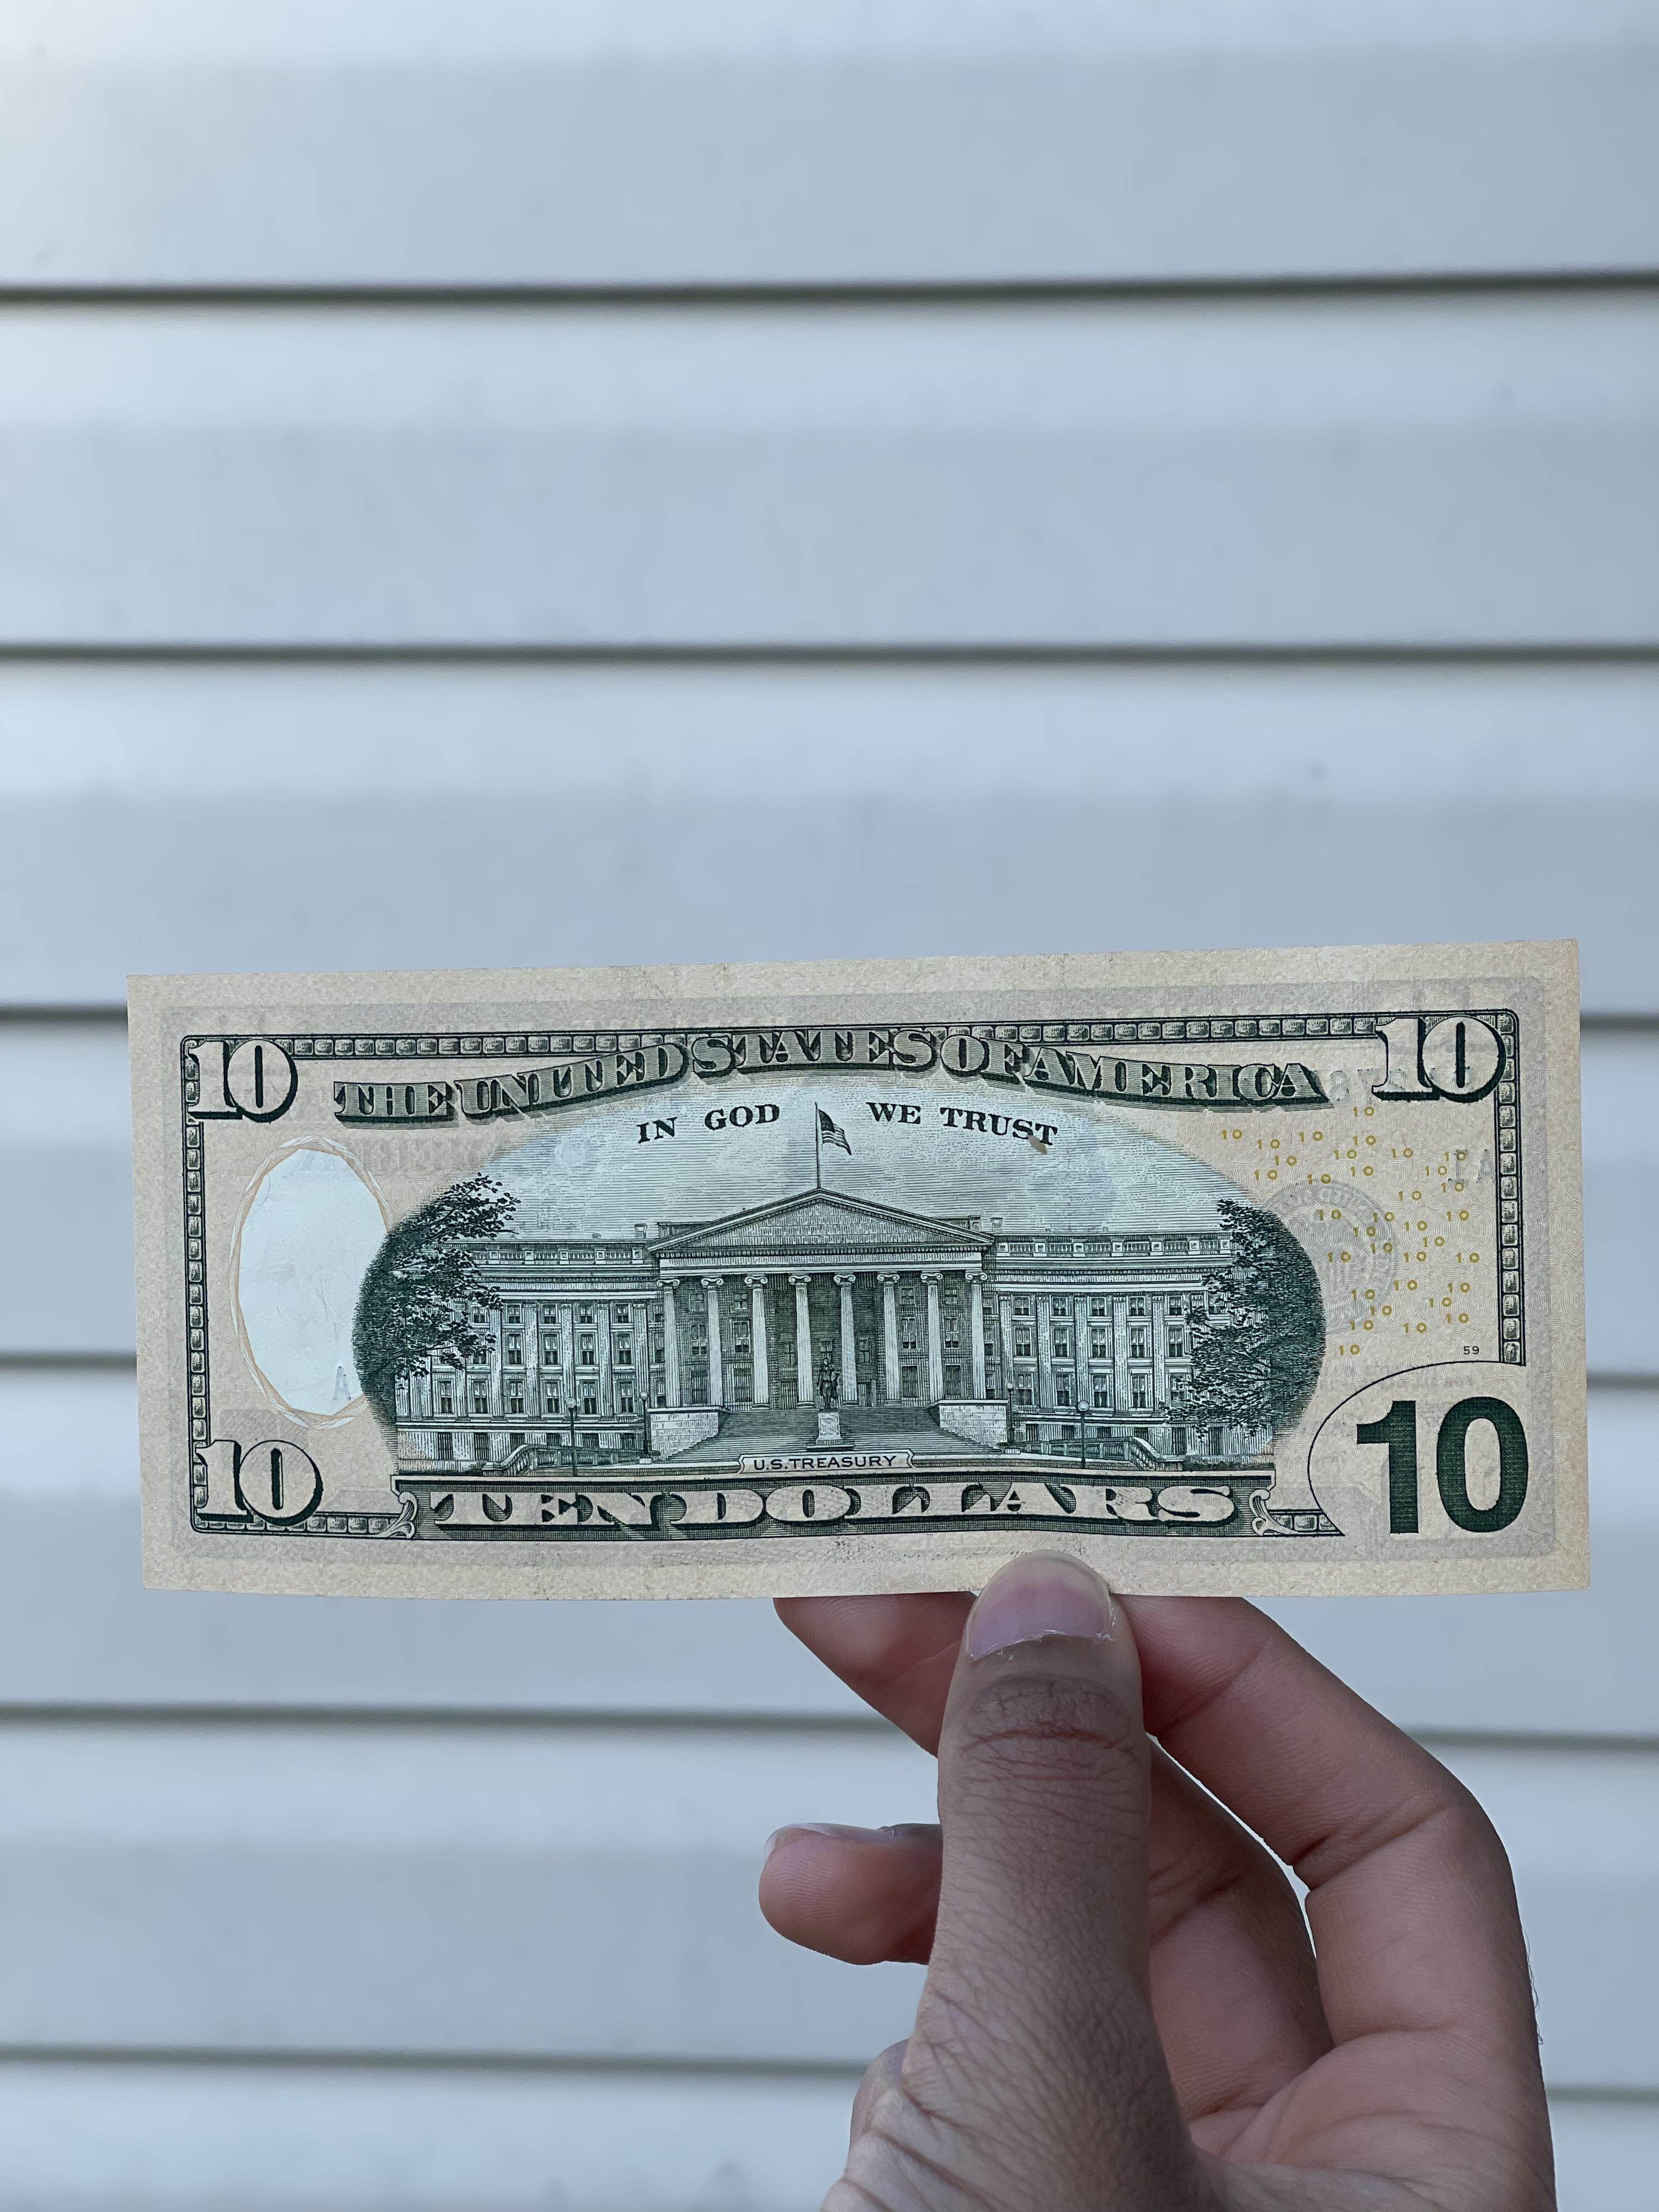TenBill: (124, 934, 1593, 1602)
